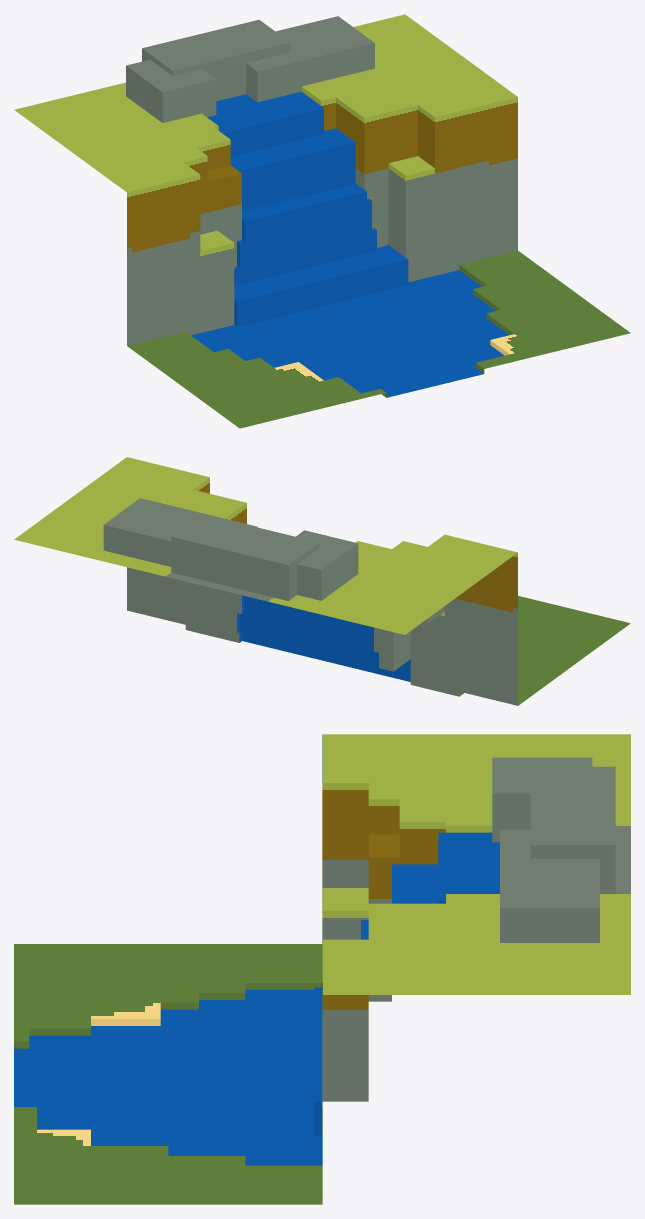
Rendered from MMLLR5(1).glb.
3 views of the same model, one above another, from view 1: azimuth 30°, elevation 25°; view 2: azimuth 150°, elevation 25°; view 3: azimuth 270°, elevation 25° (orthographic). The views are drawn at different scales.
Visible parts, largest first — view 1: model_0.057; view 2: model_0.057; view 3: model_0.057.
Part boxes in pixels (x1=…): model_0.057: x1=14, y1=14, x2=630, y2=428; model_0.057: x1=14, y1=457, x2=630, y2=705; model_0.057: x1=14, y1=734, x2=630, y2=1204.
Size of the model in its own units: 80 by 38 by 80.
Materials: 1 (1 with a texture image).
